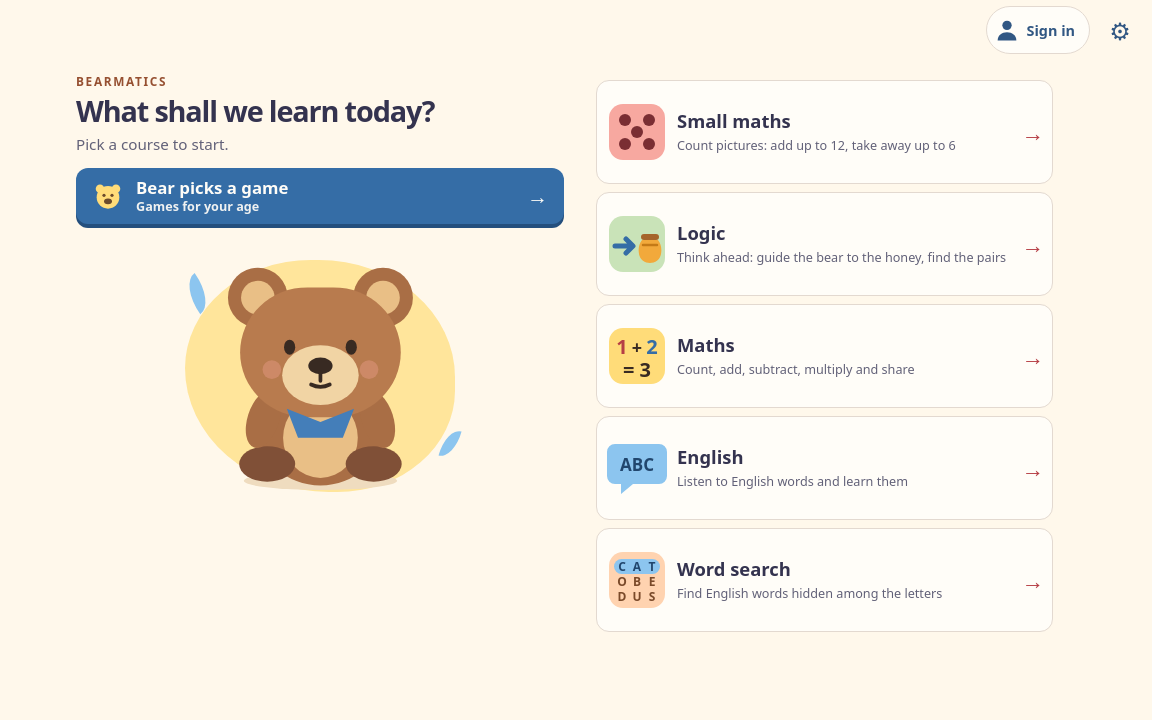
Test case: Logic menu: Level 1, sizes 5/10/20 (10 first), Levels 6-8 Pexeso, heading focused; Back returns to courses
The width and height of the screenshot is (1152, 720).
Click the button "Logic".
click(637, 244)  # box [596,192,1053,296]
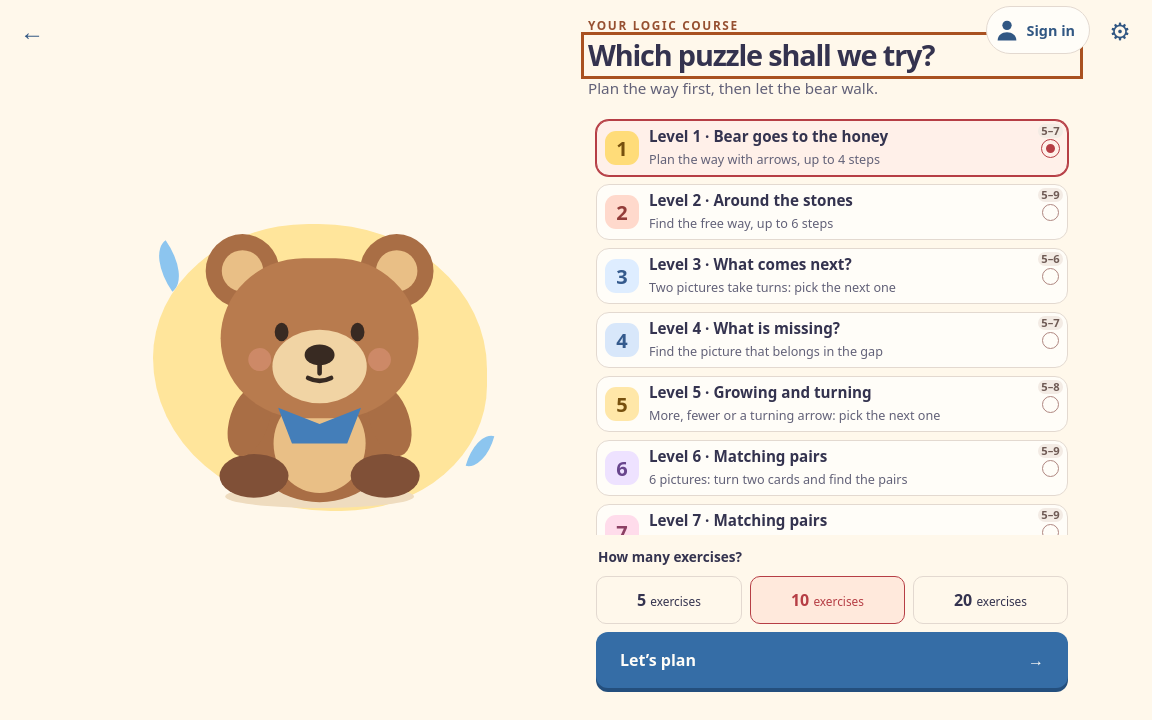
Check: the heading reads "Which puzzle shall we try?", box [588,35,934,74]
Check: the radio button labelled "Level 1 · Bear goes to the honey" is checked, box [596,120,1068,176]
Check: the text "Plan the way with arrows, up to 4 steps" is shown, box [649,150,880,168]
Click the button named "Back to courses".
click(32, 30)  # box [8,6,56,54]
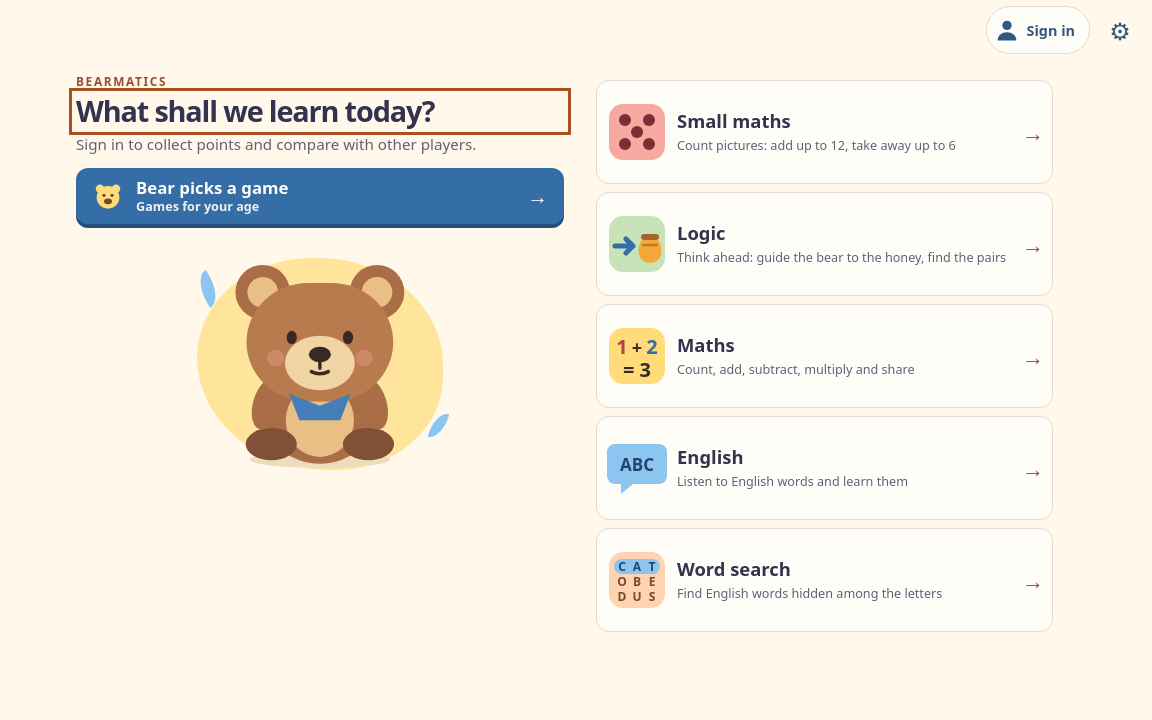
Check: the heading reads "What shall we learn today?", box [76,91,434,130]
